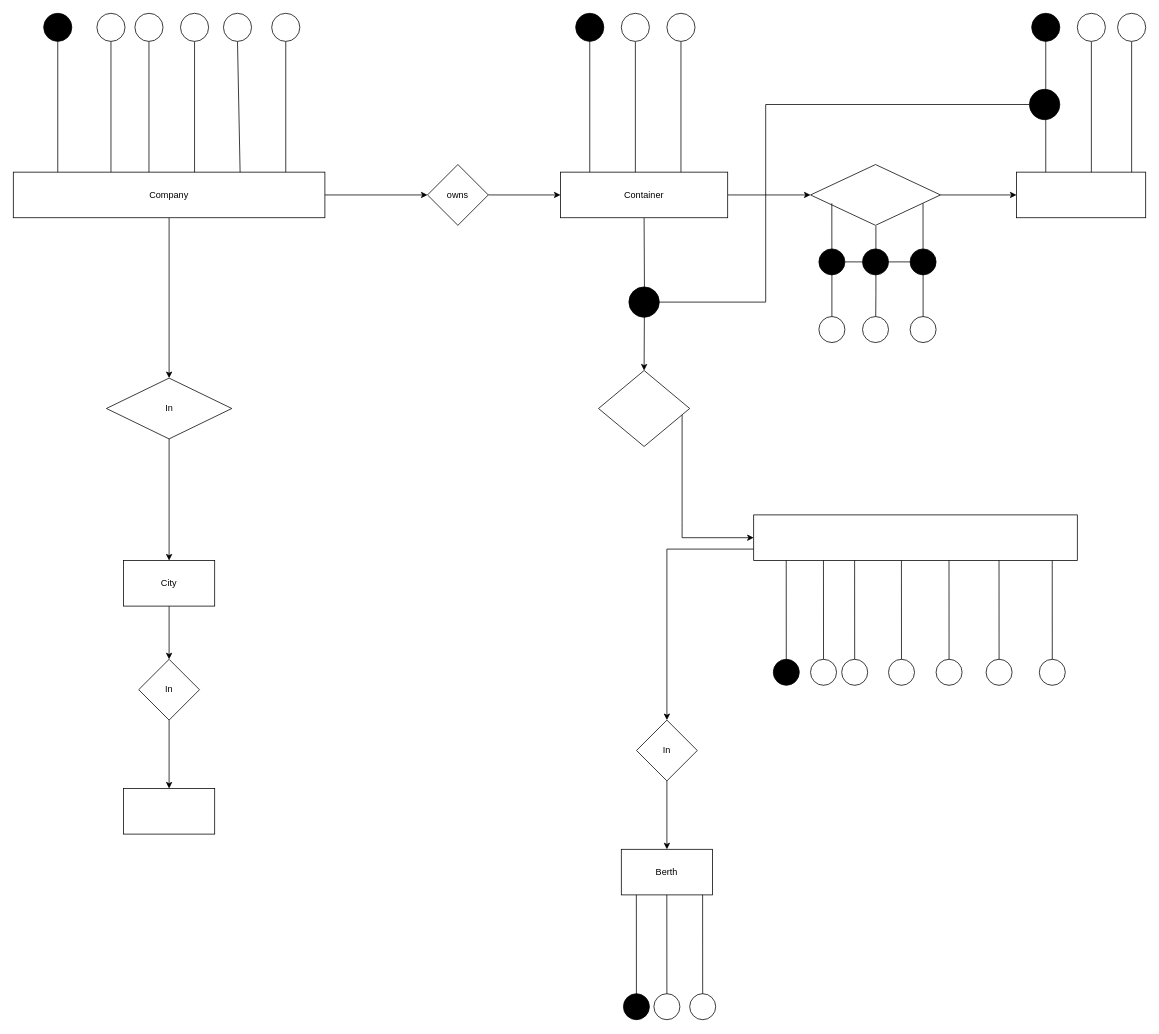
This 1159x1034 diagram has some shape labels left out. Here are the shapes that lost their labels. From the top down, the centre of each, then its label:
At (1081,194): "Yard".
At (644,408): "container on-ship".
At (915,537): "Ship".
At (169,811): "Country".
